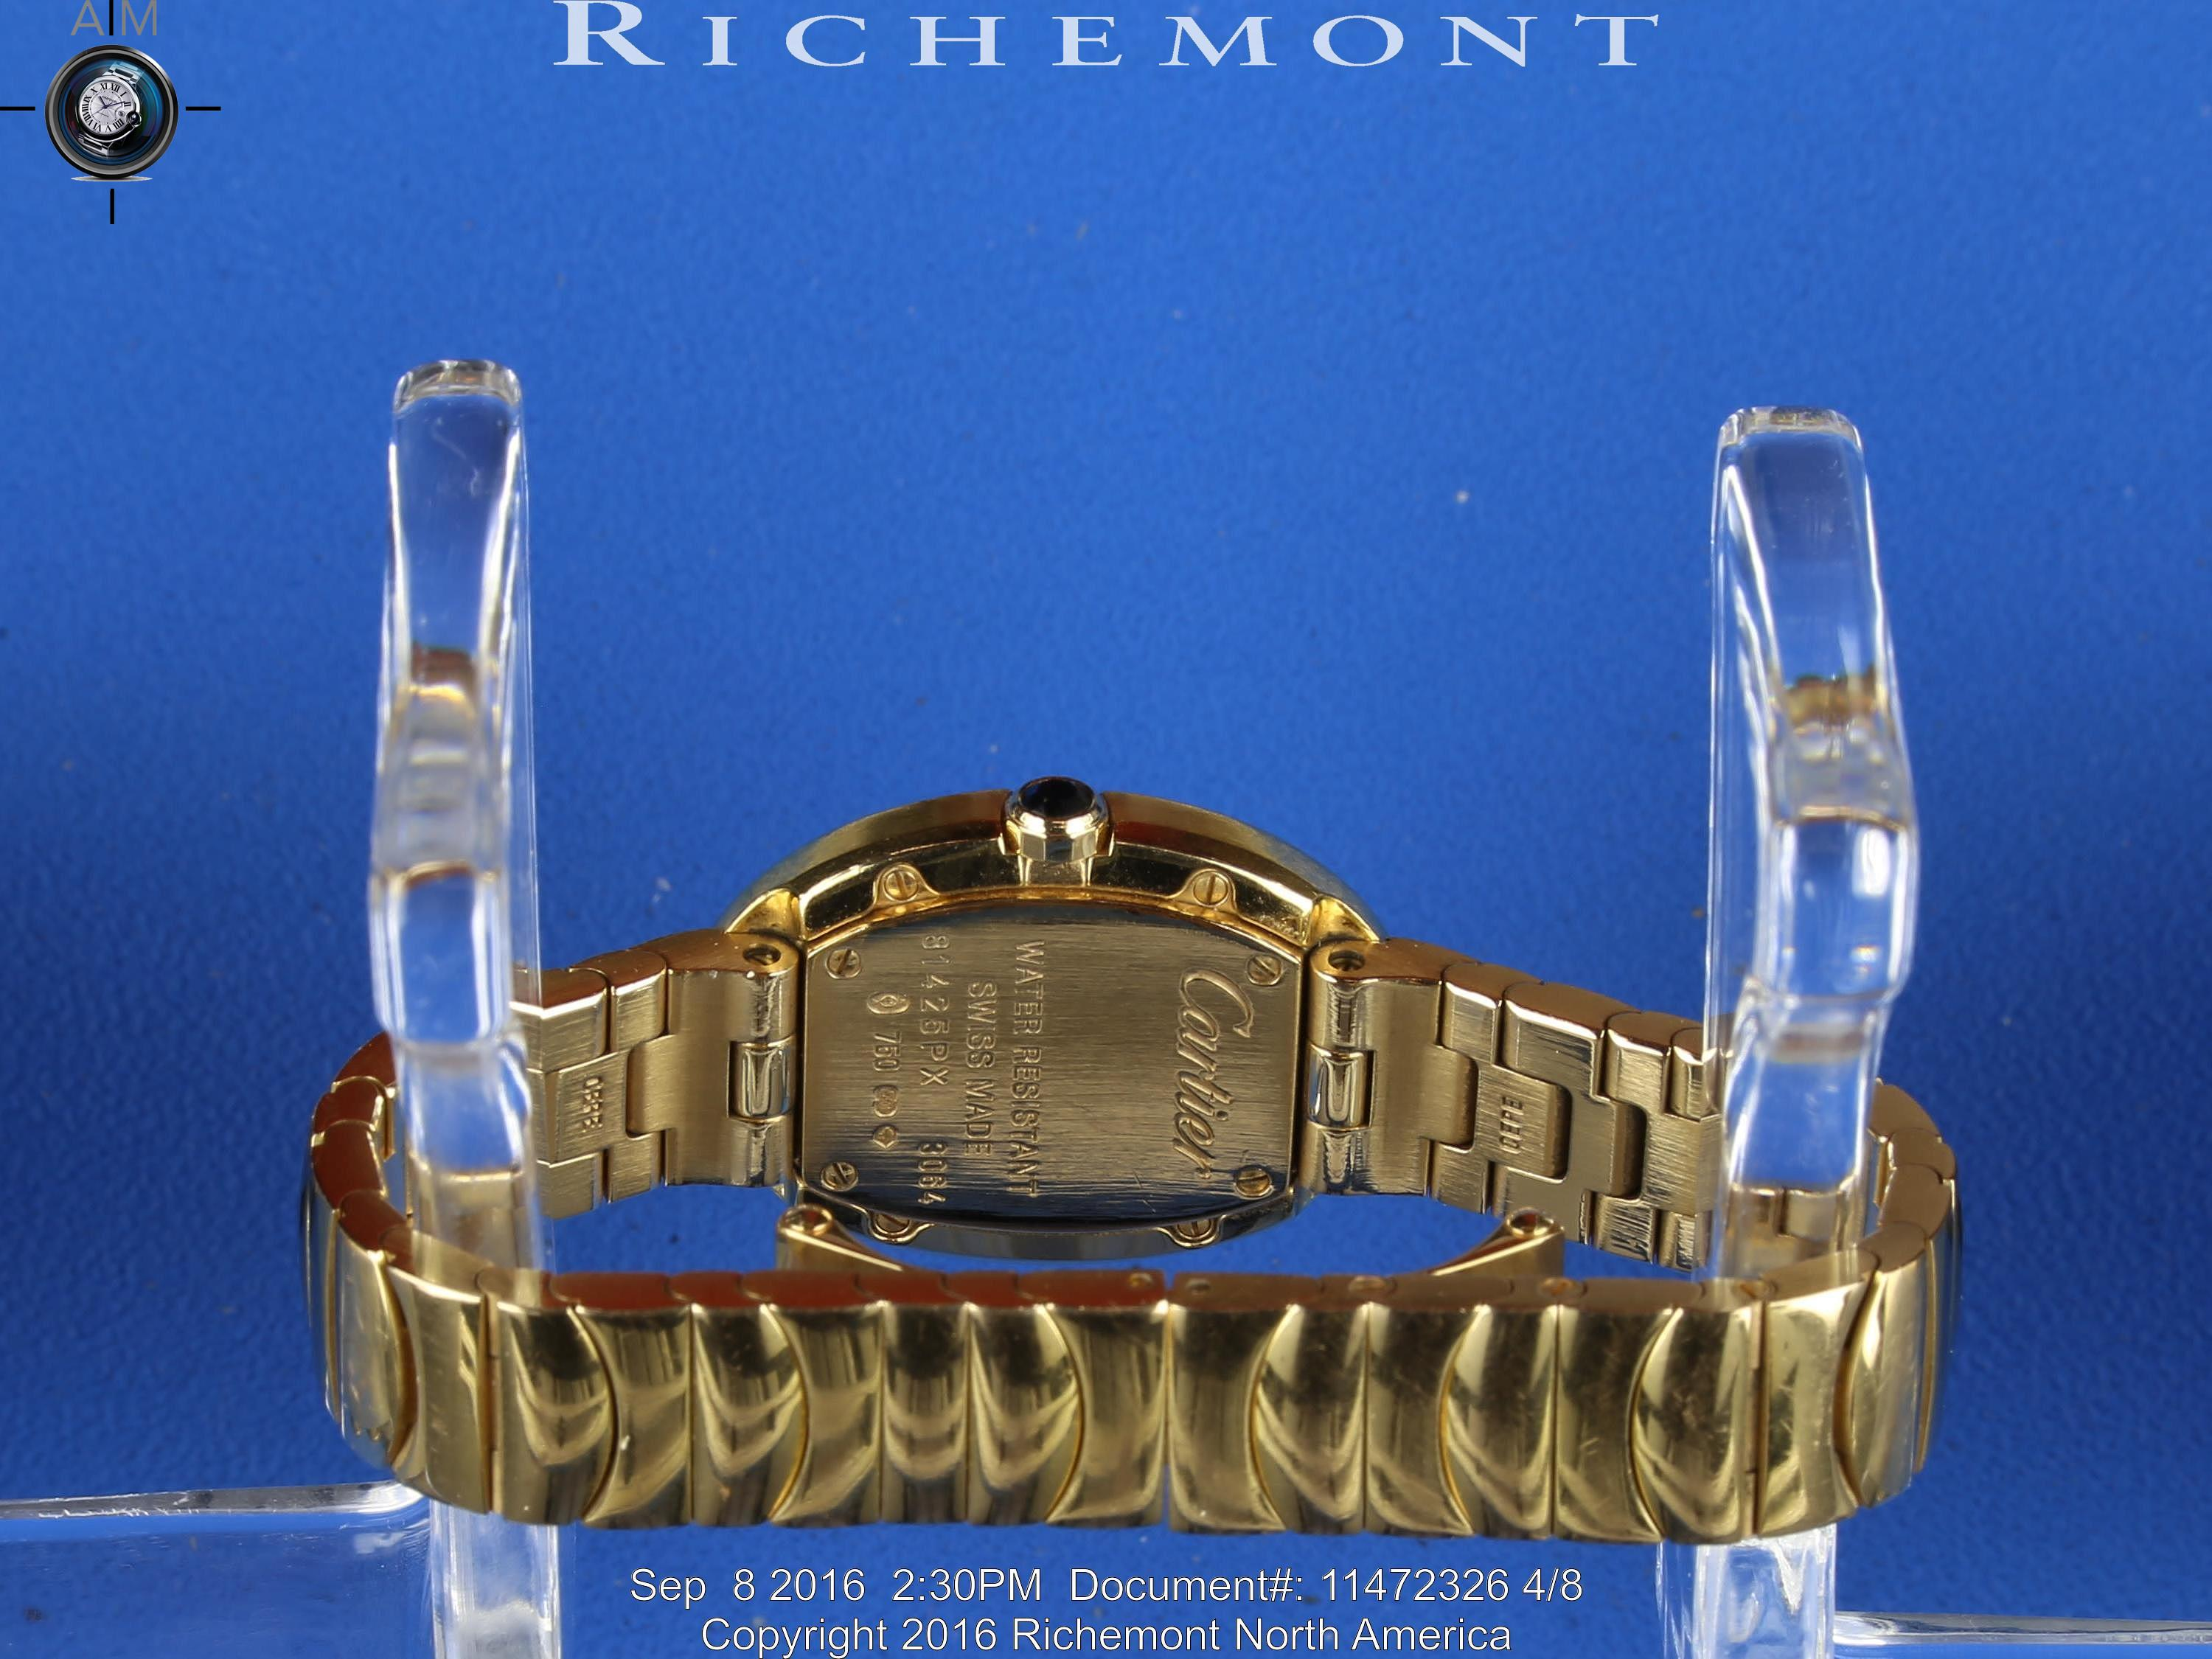Watch Back Case: (738, 772, 1369, 1272)
